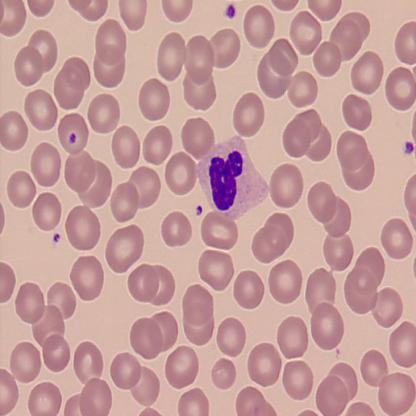Band Neutrophil: (194, 132, 270, 225)
